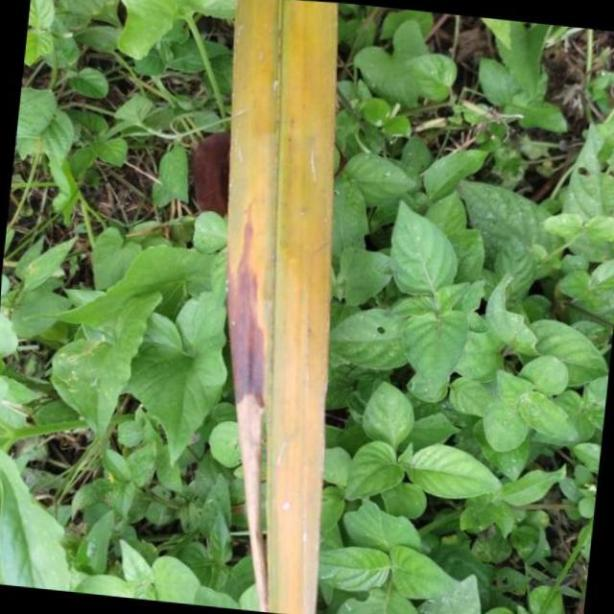Megnesium: (226, 3, 340, 614)
